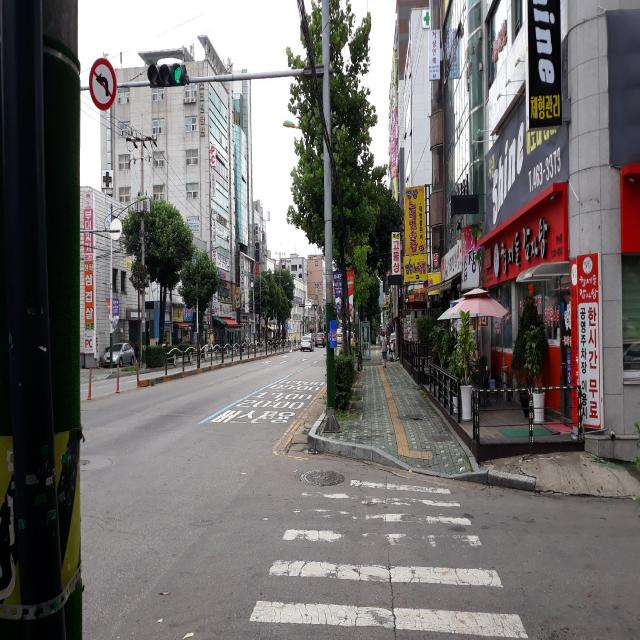횡단보도: (250, 478, 527, 640)
